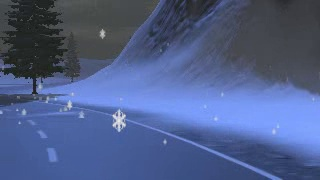Lane: (0, 96, 276, 179)
